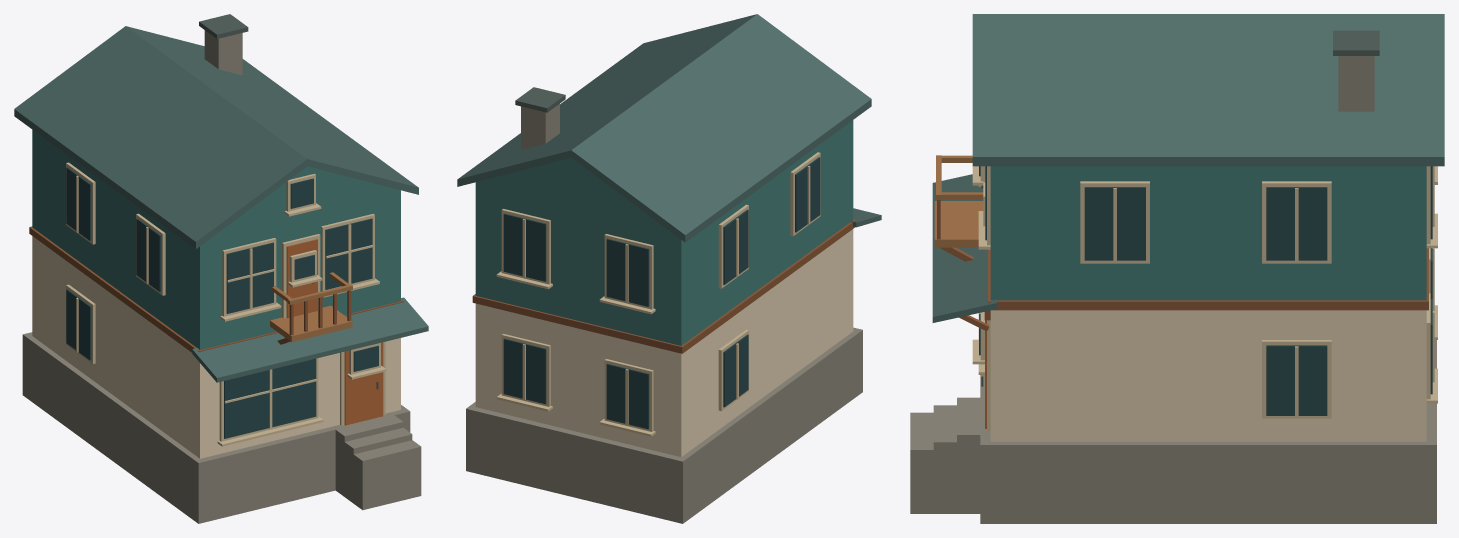
File: shop_home.glb
3 views of the same model, side by side, from view 1: azimuth 30°, elevation 25°; view 2: azimuth 150°, elevation 25°; view 3: azimuth 270°, elevation 25° (orthographic). The views are drawn at different scales.
Visible parts, largest first — view 1: shop_home; view 2: shop_home; view 3: shop_home.
Part boxes in pixels (box(x1,y1,x2,y2)): shop_home: box(14, 14, 428, 523); shop_home: box(457, 14, 881, 523); shop_home: box(910, 14, 1444, 523).
Size of the model in its own units: 6.44 by 9.72 by 10.3.
